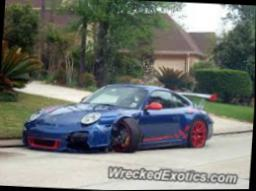Bumper: (22, 123, 112, 155)
Fender: (93, 111, 141, 131)
